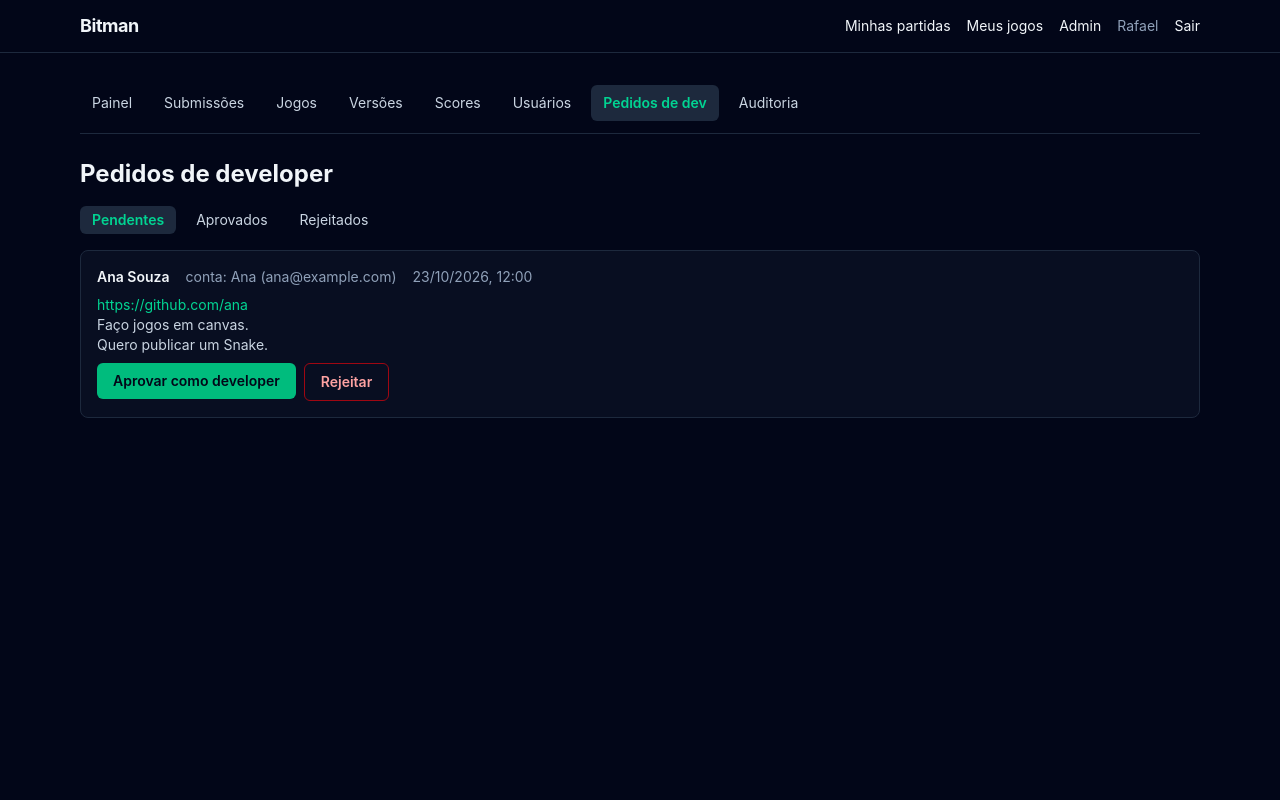
it: pedidos de developer (M18) › rejeita com motivo
Click the button "Rejeitar" at (347, 382), box [304, 363, 389, 401]
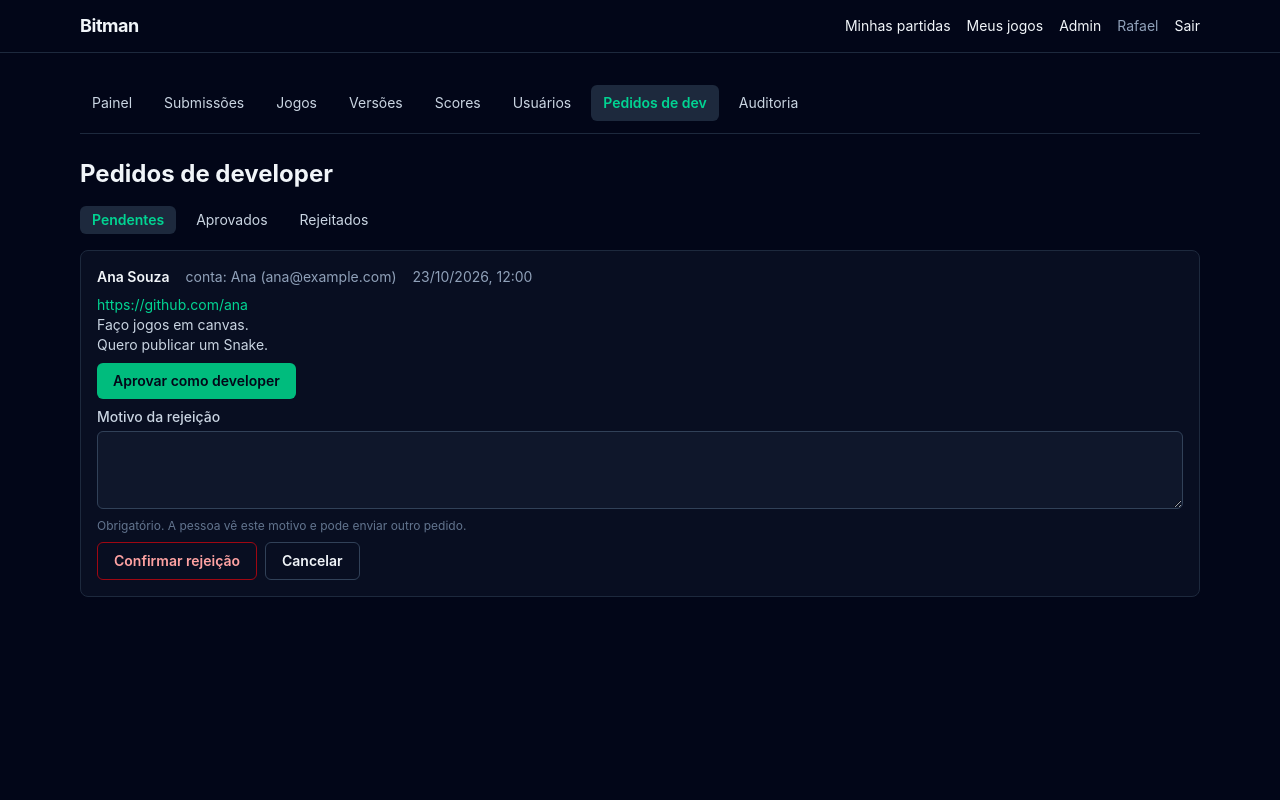
Type "Sem jogo." into the text box labelled "Motivo da rejeição" at (640, 470), box [97, 431, 1183, 509]
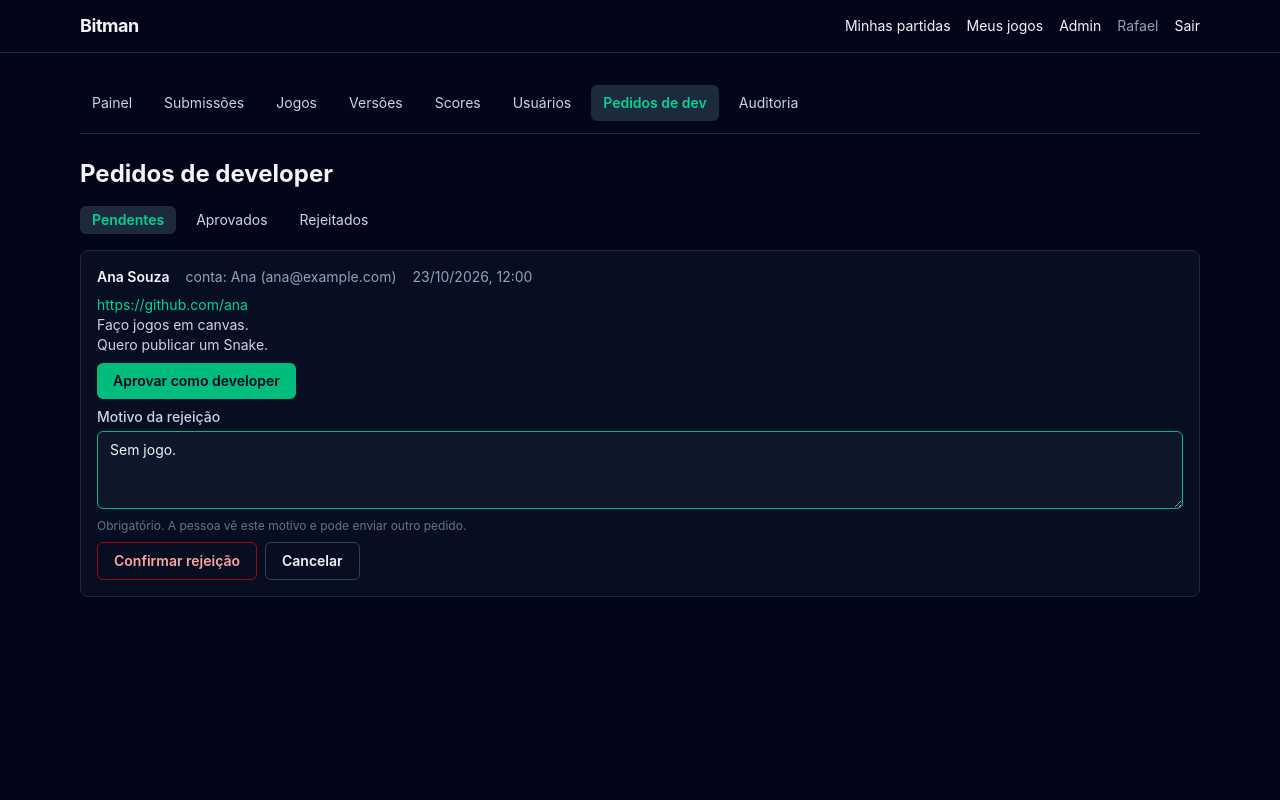
Click the button "Confirmar rejeição" at (177, 561), box [97, 542, 257, 580]
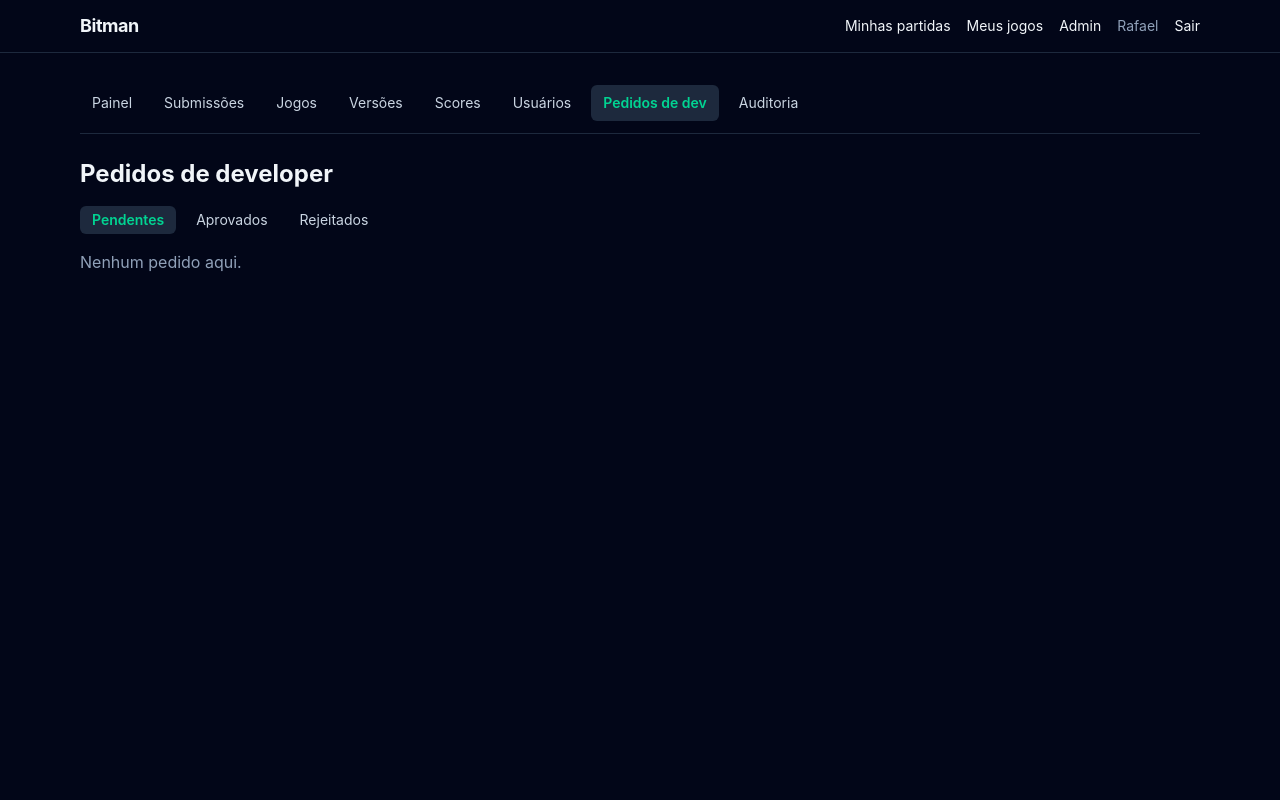
expect the text "Nenhum pedido aqui." is shown: met, box [80, 252, 242, 272]
